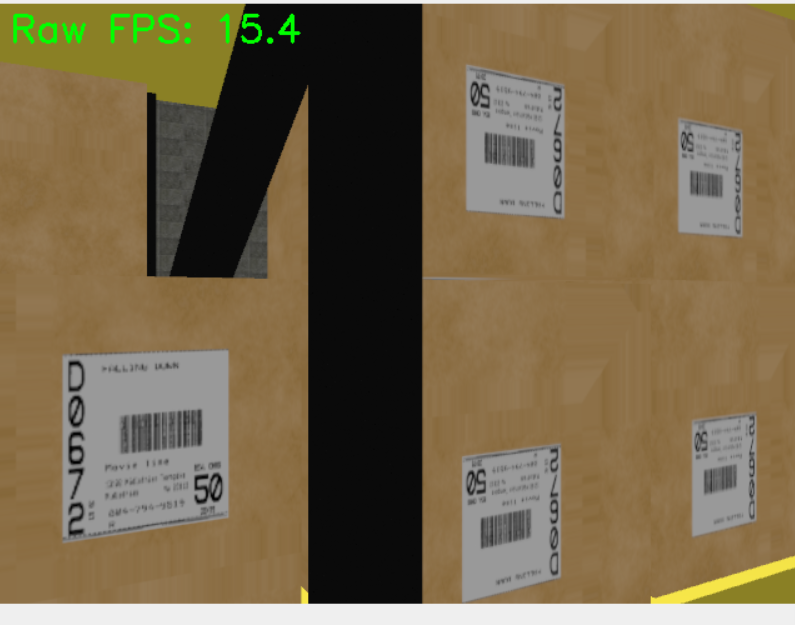barcode: (58, 349, 232, 541), (464, 60, 567, 221), (459, 443, 563, 602), (692, 412, 759, 537), (677, 117, 745, 239)
